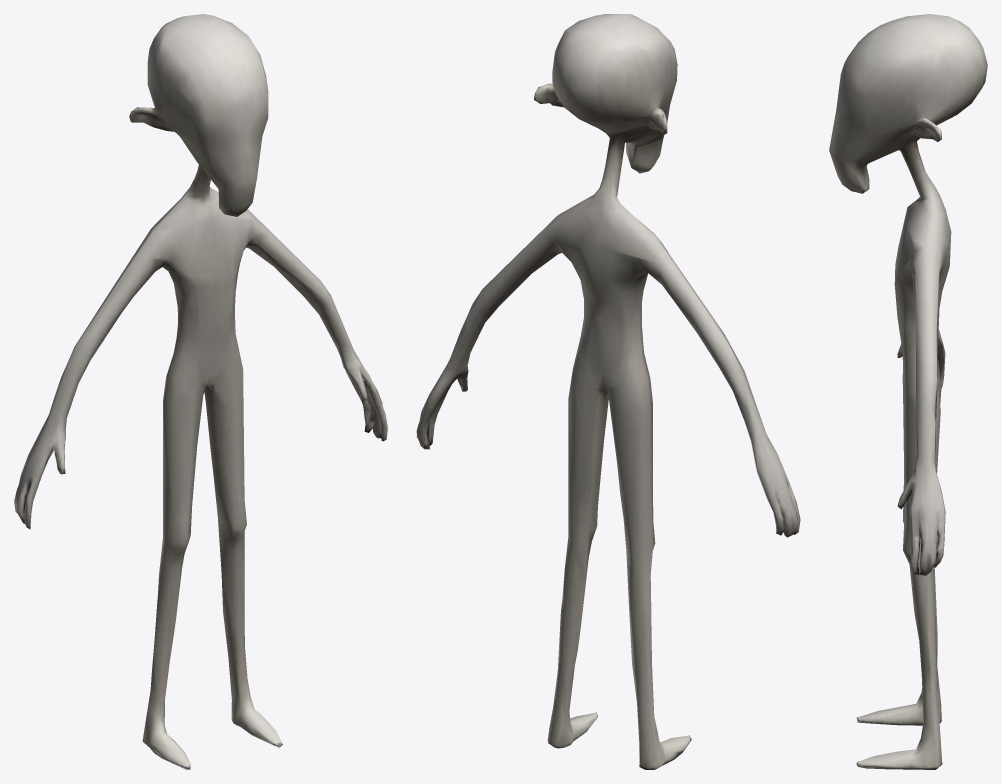
File: hollow_a.glb
The picture shows the model from 3 angles, left to right: view 1: azimuth 30°, elevation 25°; view 2: azimuth 150°, elevation 25°; view 3: azimuth 270°, elevation 25°; orthographic projection. The views are drawn at different scales.
Parts seen in each view (by area): view 1: hollow_a; view 2: hollow_a; view 3: hollow_a.
Part boxes in pixels (left/top/right/bottom): hollow_a: left=14, top=14, right=387, bottom=769; hollow_a: left=416, top=14, right=800, bottom=769; hollow_a: left=829, top=14, right=987, bottom=769.
Bounding box in the file's own units: 0.5397 × 1 × 0.1988.
1 material, 1 textured.
